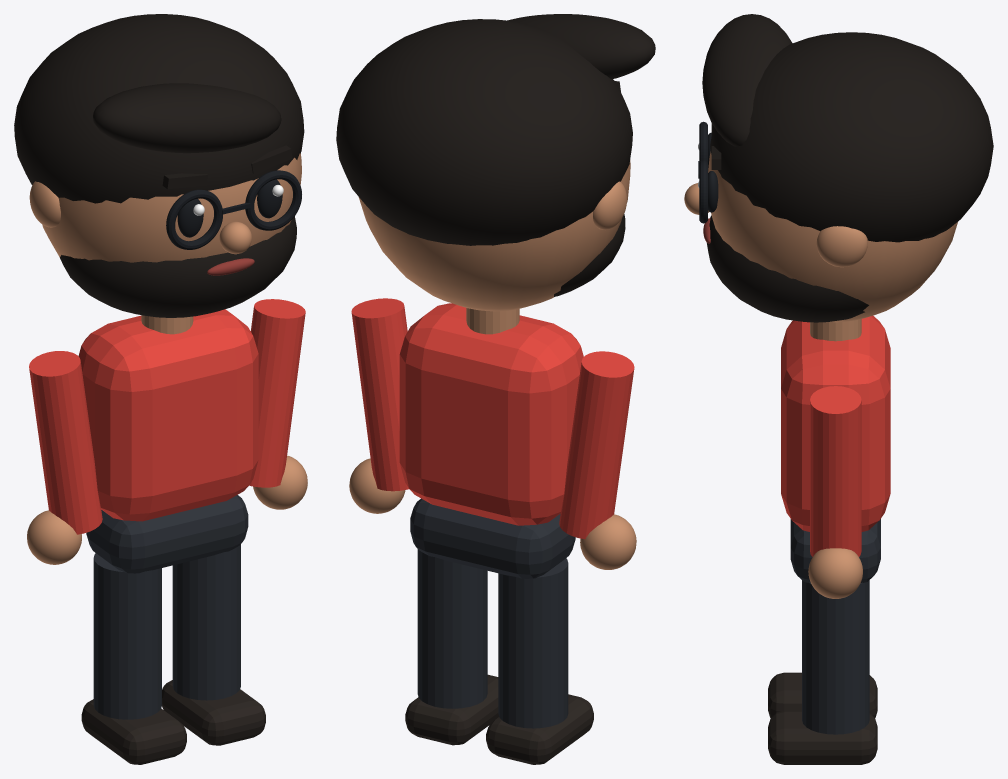
File: amigo_barba.glb
The picture shows the model from 3 angles, left to right: view 1: azimuth 30°, elevation 25°; view 2: azimuth 150°, elevation 25°; view 3: azimuth 270°, elevation 25°; orthographic projection. The views are drawn at different scales.
Parts seen in each view (by area): view 1: Sphere.012, Cube.003, Sphere.010, Sphere.002, Sphere.013, Cylinder, Cylinder.001, Cylinder.002, Cube.002, Cylinder.003, Cube, Cube.001 (+12 smaller); view 2: Sphere.012, Cube.003, Sphere.002, Cylinder, Cylinder.001, Cylinder.002, Cube.002, Cylinder.003, Sphere.013, Cube, Cube.001, Sphere (+4 smaller); view 3: Sphere.012, Cube.003, Sphere.002, Cylinder.001, Cylinder.003, Sphere.013, Sphere.010, Cube.001, Sphere.001, Cube.002, Sphere.006, Cube (+2 smaller).
Part boxes in pixels (box(x1,y1,x2,y2)): Sphere.012: box(14, 14, 304, 203); Cube.003: box(78, 309, 258, 521); Sphere.010: box(60, 216, 296, 317); Sphere.002: box(42, 153, 301, 262); Sphere.013: box(93, 83, 281, 153); Cylinder: box(93, 553, 161, 719); Cylinder.001: box(172, 544, 240, 700); Cylinder.002: box(29, 351, 102, 534); Cube.002: box(86, 495, 248, 573); Cylinder.003: box(249, 299, 305, 487); Cube: box(81, 699, 186, 764); Cube.001: box(162, 680, 265, 745); Sphere.012: box(336, 19, 632, 245); Cube.003: box(399, 303, 583, 525); Sphere.002: box(358, 160, 630, 311); Cylinder: box(498, 558, 568, 728); Cylinder.001: box(417, 549, 487, 708); Cylinder.002: box(559, 351, 634, 539); Cube.002: box(410, 498, 575, 578); Cylinder.003: box(351, 298, 408, 491); Sphere.013: box(507, 14, 655, 79); Cube: box(486, 694, 593, 764); Cube.001: box(405, 674, 499, 745); Sphere: box(580, 514, 636, 569); Sphere.012: box(710, 32, 993, 242); Cube.003: box(781, 315, 890, 531); Sphere.002: box(708, 151, 957, 322); Cylinder.001: box(802, 580, 869, 734); Cylinder.003: box(810, 386, 861, 556); Sphere.013: box(702, 14, 792, 146); Sphere.010: box(706, 215, 868, 322); Cube.001: box(768, 710, 877, 764); Sphere.001: box(808, 548, 862, 598); Cube.002: box(790, 519, 880, 582); Sphere.006: box(816, 226, 867, 267); Cube: box(768, 672, 877, 718).
Bounding box in the file's own units: 0.97 × 2.35 × 0.96.
